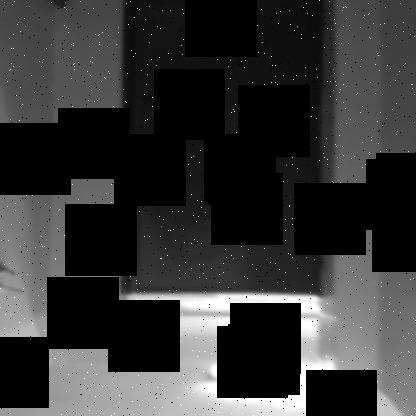Porte: (119, 1, 326, 297)
